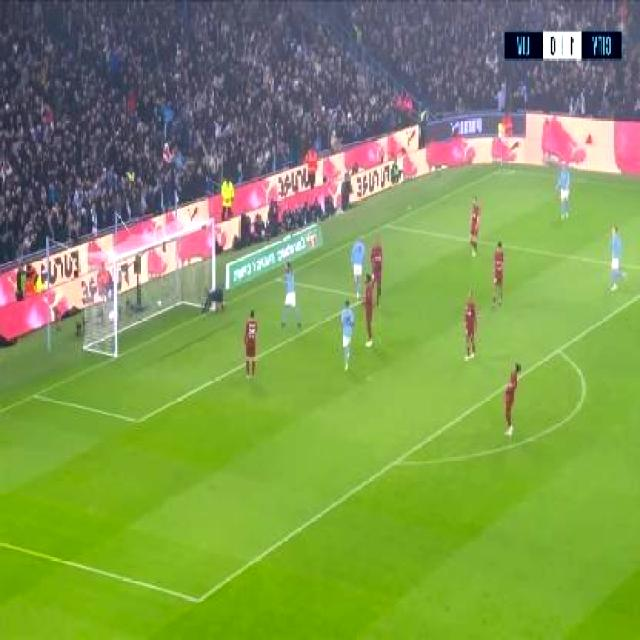bigarea_bottom_inner: (191, 586, 209, 614)
bigarea_top_outter: (384, 218, 394, 231)
bottom_arc_area_intersection: (389, 454, 402, 471)
corner: (498, 164, 511, 173)
smallarea_bottom_inner: (130, 406, 148, 434)
smallarea_bottom_outter: (28, 384, 43, 404)
smallarea_top_inner: (357, 292, 365, 305)
smallarea_top_outter: (272, 274, 283, 284)
top_arc_area_intersection: (554, 342, 566, 358)
